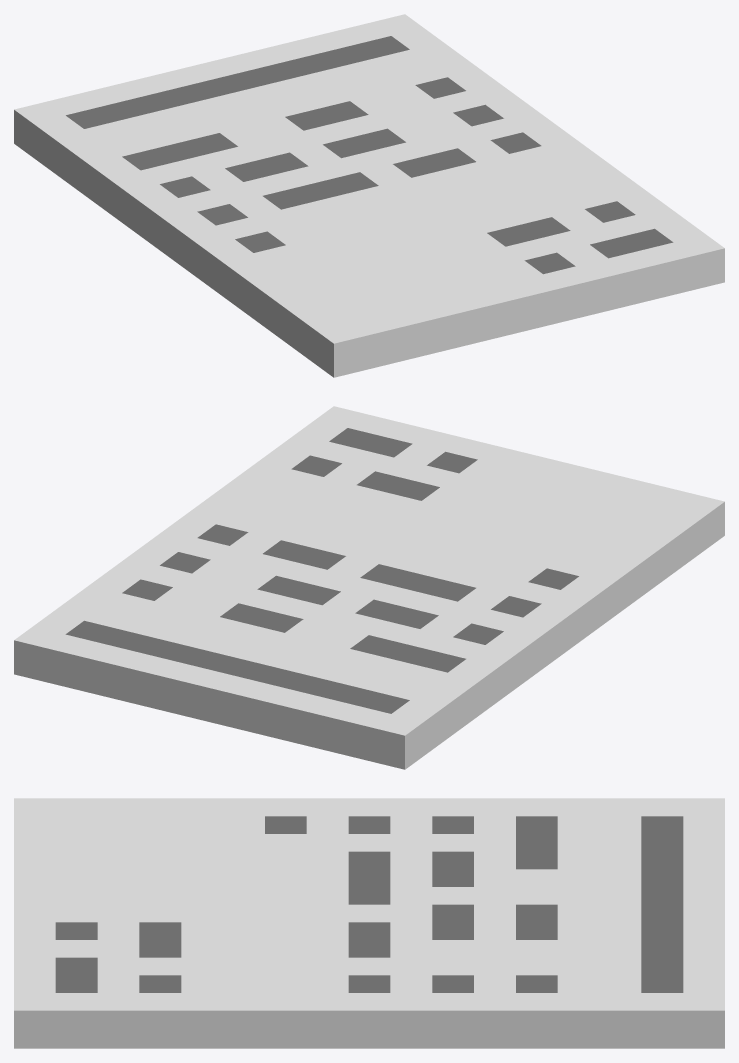
Rendered from Voxel Universe Objects-30.obj.
3 renders of one model, top to bottom at view 1: azimuth 30°, elevation 25°; view 2: azimuth 150°, elevation 25°; view 3: azimuth 270°, elevation 25°, orthographic. The views are drawn at different scales.
Size of the model in its own units: 1.2 by 0.1 by 1.7.
Materials: 1 (1 with a texture image).
